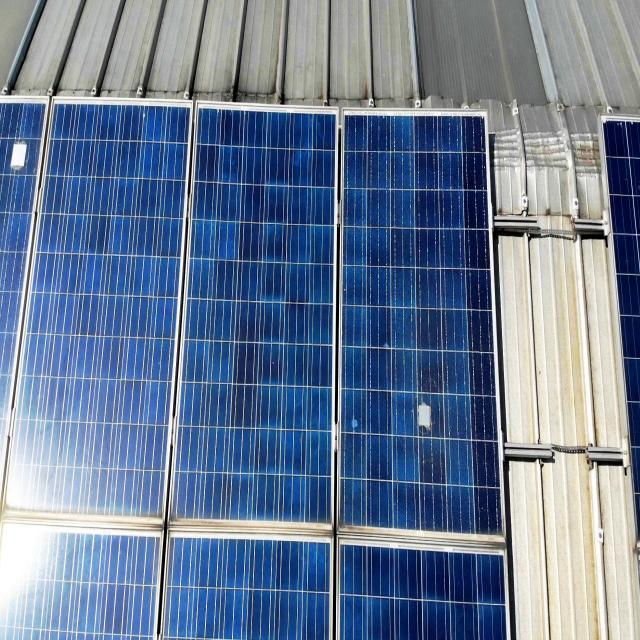faulty: (336, 111, 506, 540), (0, 99, 44, 191)
no faulty: (6, 99, 190, 523), (170, 100, 336, 539)
